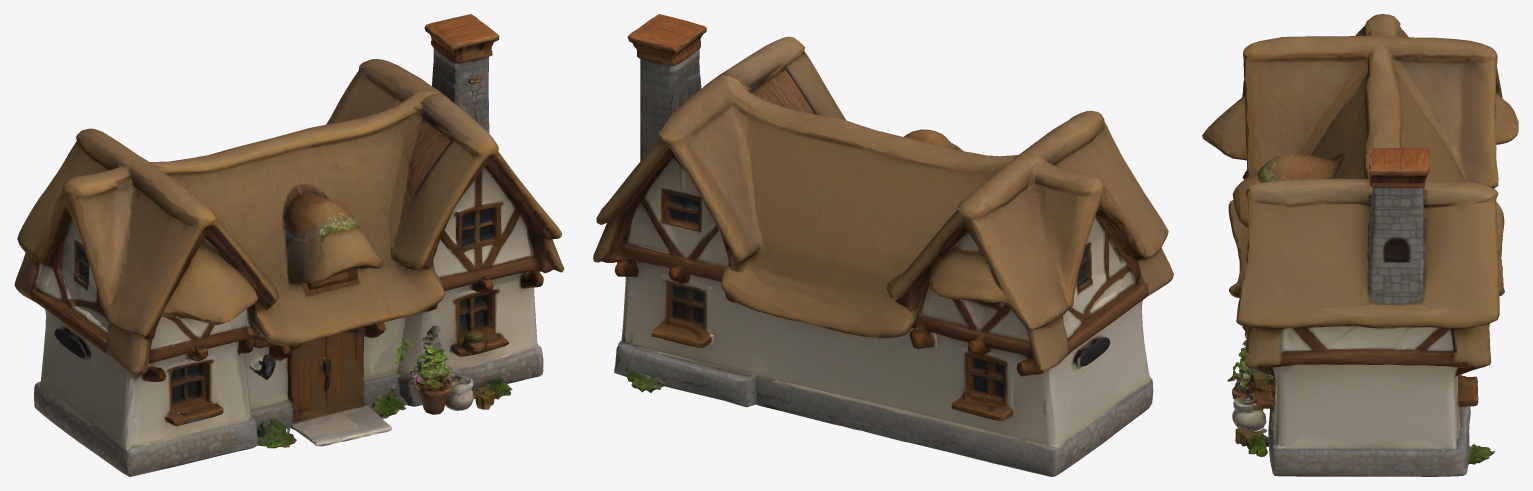
Rendered from house__medieval-thatch_e3.glb.
3 views of the same model, side by side, from view 1: azimuth 30°, elevation 25°; view 2: azimuth 150°, elevation 25°; view 3: azimuth 270°, elevation 25° (orthographic). The views are drawn at different scales.
Bounding box in the file's own units: 2.02 × 1.4 × 1.26.
Materials: 1 (1 with a texture image).
